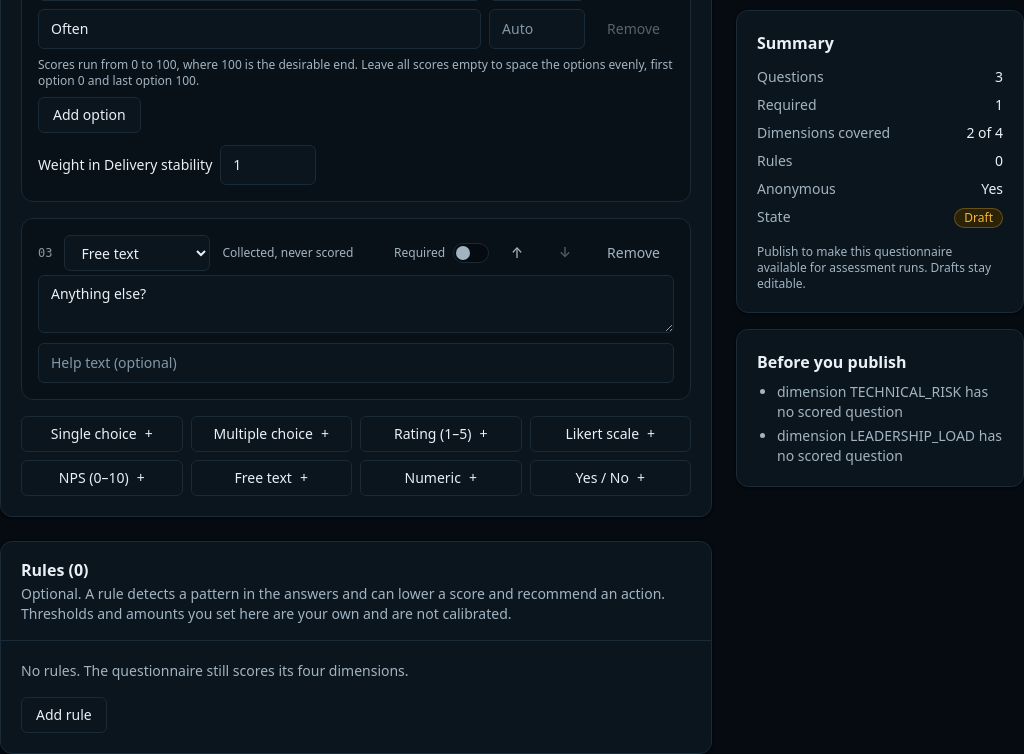
Test case: BuilderPage: editing › adds a question of the chosen kind with its starting settings
The width and height of the screenshot is (1024, 754).
(page scrolled)
Click the button "Yes / No +": {"x": 610, "y": 478} top-left (530, 460), bottom-right (691, 496)
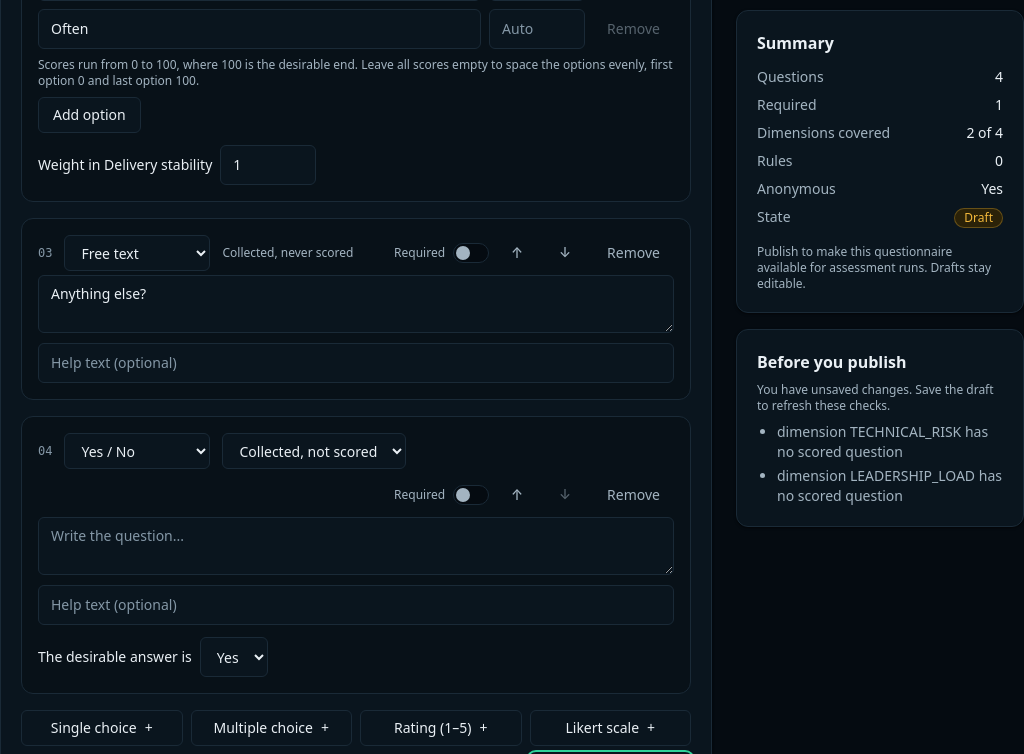
Expected: the 2nd dropdown named "Question 4 type" shows "Yes / No", top-left (64, 433), bottom-right (210, 469)
Expected: the dropdown labelled "The desirable answer is" shows "Yes", top-left (200, 637), bottom-right (268, 677)
